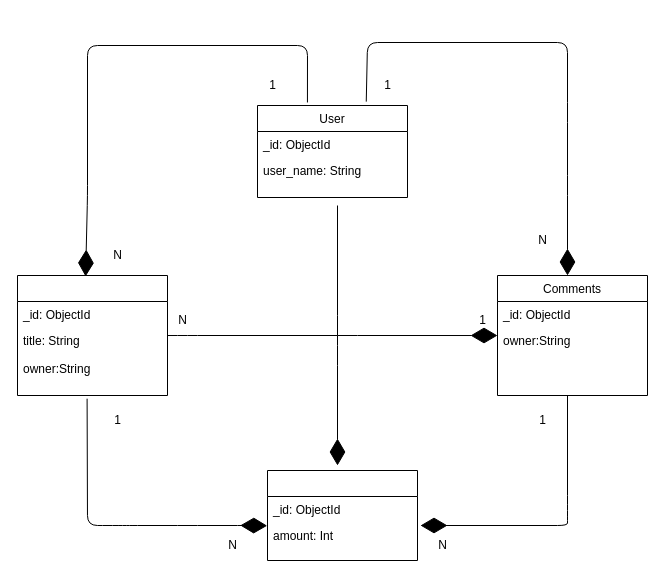
Some shapes in this 665 by 581 pixel diagram are drawn without their labels. The box of each missing label's shape, as (x1, y1, x2, y2) in pixels:
Likes: (266, 470, 418, 560)
Post: (16, 274, 168, 396)
